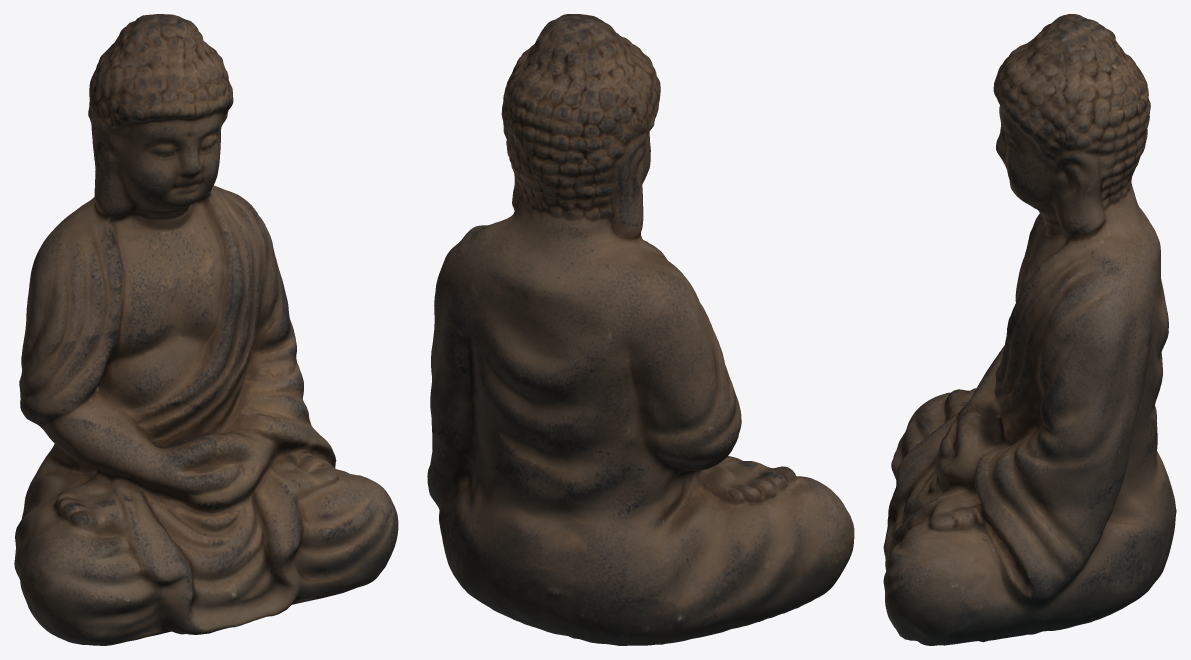
The model's file is buda_opt.glb.
The picture shows the model from 3 angles, left to right: view 1: azimuth 30°, elevation 25°; view 2: azimuth 150°, elevation 25°; view 3: azimuth 270°, elevation 25°; orthographic projection. The views are drawn at different scales.
Visible parts, largest first — view 1: Group_Global.002; view 2: Group_Global.002; view 3: Group_Global.002.
Boxes of the visible parts, x1,y1,x2,y2 form: Group_Global.002: (14,14,398,645); Group_Global.002: (427,14,854,645); Group_Global.002: (883,14,1176,645).
Size of the model in its own units: 4.71 by 6.93 by 3.28.
1 material, 1 textured.
